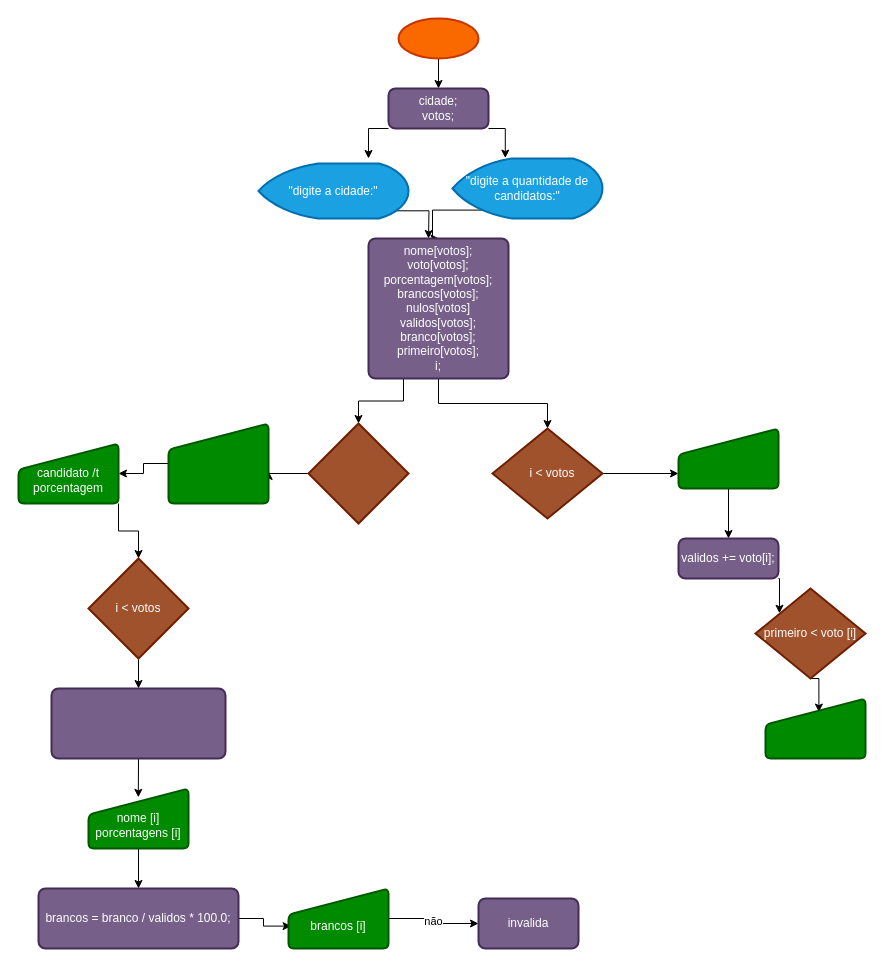
Some shapes in this 883 by 966 pixel diagram are drawn without their labels. Each missing label, with the box of its shape:
eleição valida; votos válidos; votos inválidos;: (167, 422, 269, 504)
inicio: (397, 17, 479, 59)
nome [i]; voto [i];: (677, 427, 779, 489)
porcentagens[i] = 0.0; porcentagens[i] = voto[i] / validos * 100.0;: (50, 687, 226, 759)
primeiro = i primeiro = voto [i]: (764, 697, 866, 759)
valido > nulos: (307, 422, 409, 524)
